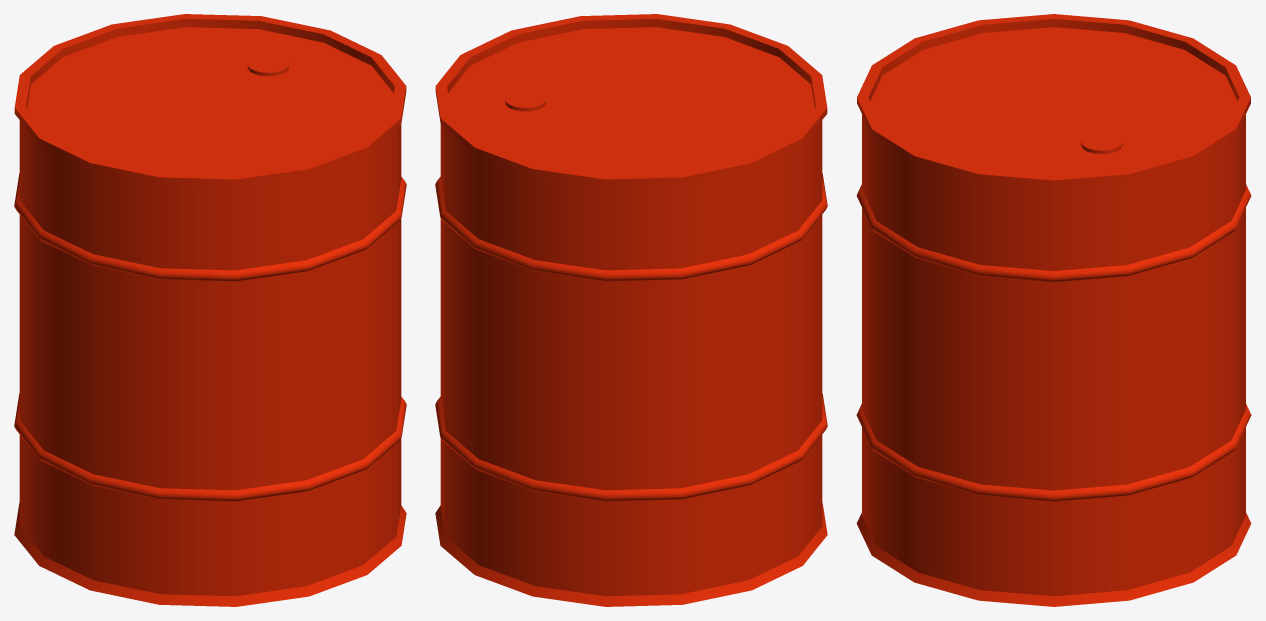
File: Drum.fbx
3 views of the same model, side by side, from view 1: azimuth 30°, elevation 25°; view 2: azimuth 150°, elevation 25°; view 3: azimuth 270°, elevation 25° (orthographic).
Parts seen in each view (by area): view 1: Drum; view 2: Drum; view 3: Drum.
Part boxes in pixels (x1,y1,x2,y2): Drum: [14, 14, 406, 606]; Drum: [435, 14, 827, 606]; Drum: [856, 14, 1251, 606].
Size of what is drawn, in the model's own units: 103 by 103 by 123.
